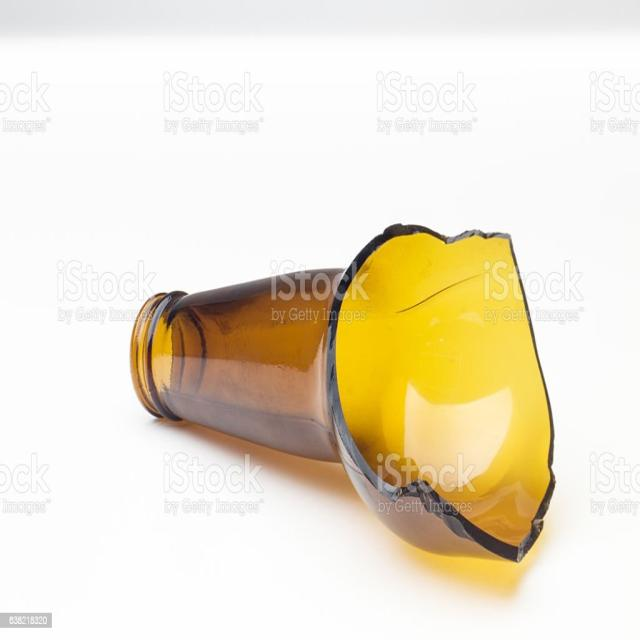Dry Waste: (130, 222, 555, 563)
